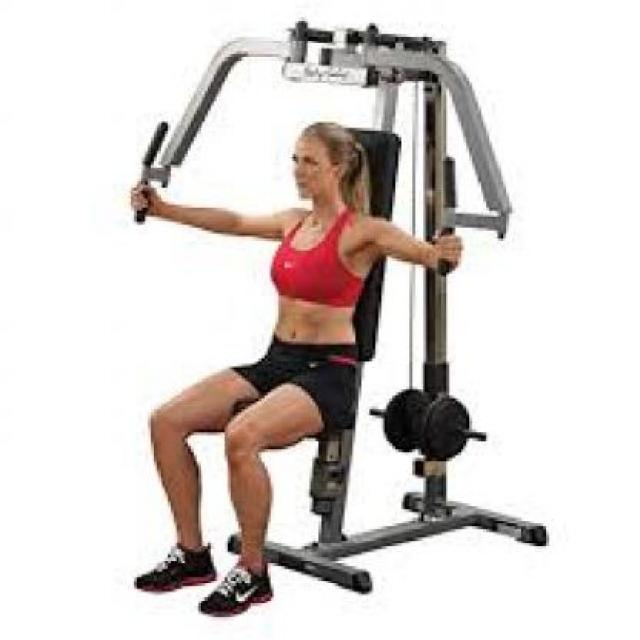chest fly machine: (102, 16, 568, 622)
